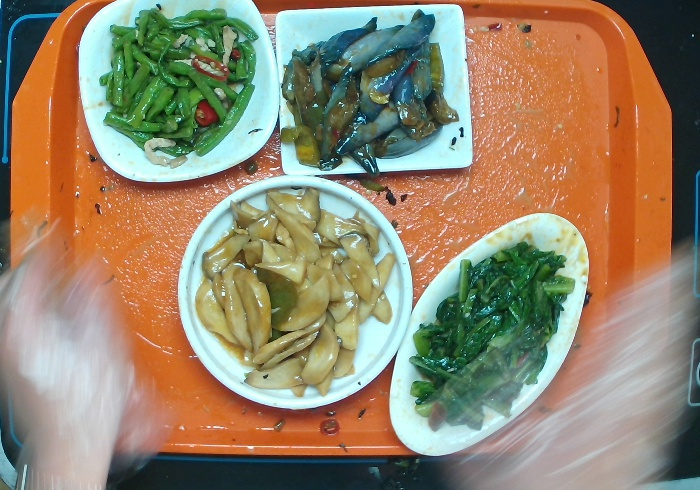HZYJPL-Si_Fang_Die: (270, 1, 481, 181)
HZYJPL-Si_Fang_Yuan_Die: (74, 1, 284, 186)
HZYJPL-Xiao_Yu_Die: (383, 209, 594, 461)
HZYJPL-Xiao_Yuan_Die: (173, 170, 418, 413)
